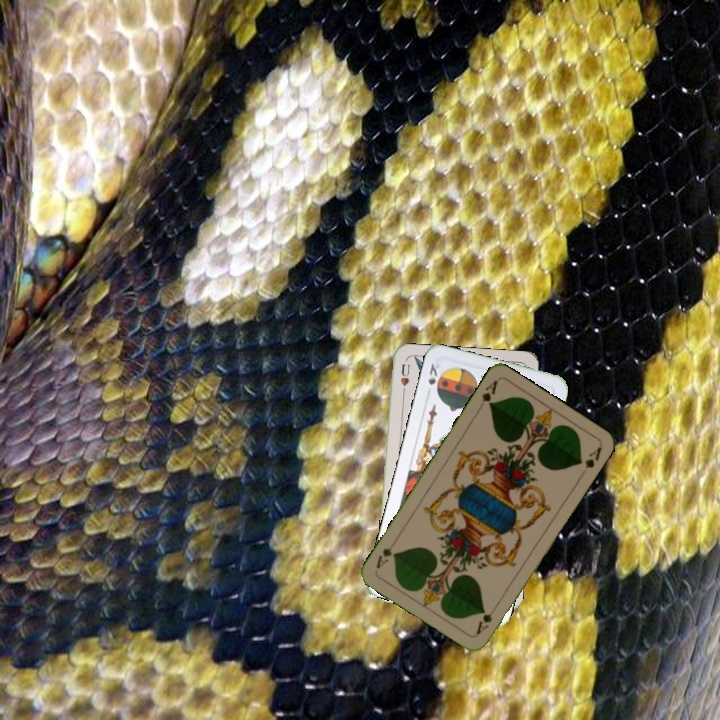GA: (472, 601, 500, 637), (474, 376, 500, 413)
HU: (396, 360, 412, 398)
SK: (424, 359, 443, 394)
